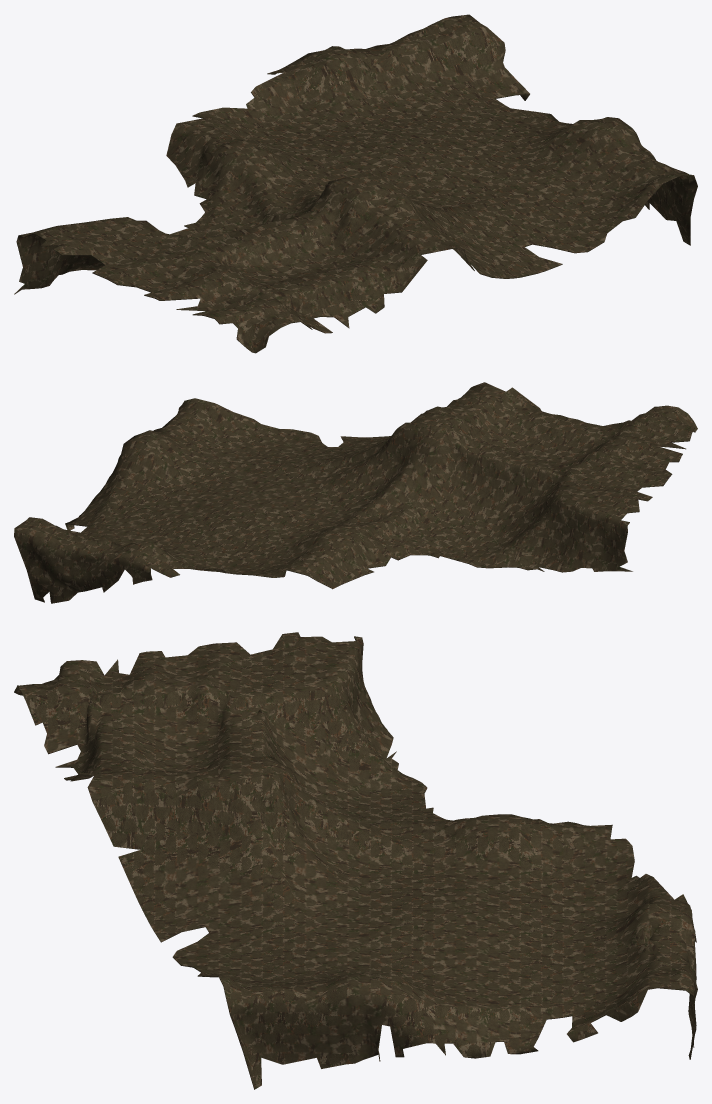
File: TileCamouflageCover.FBX
3 renders of one model, top to bottom at view 1: azimuth 30°, elevation 25°; view 2: azimuth 150°, elevation 25°; view 3: azimuth 270°, elevation 25°, orthographic. The views are drawn at different scales.
Visible parts, largest first — view 1: TileCamouflageCover; view 2: TileCamouflageCover; view 3: TileCamouflageCover.
Part boxes in pixels (<box>): TileCamouflageCover: <box>14,14,697,353</box>; TileCamouflageCover: <box>14,382,697,603</box>; TileCamouflageCover: <box>14,632,697,1089</box>.
Size of the model in its own units: 468 by 103 by 418.
1 material, 1 textured.
